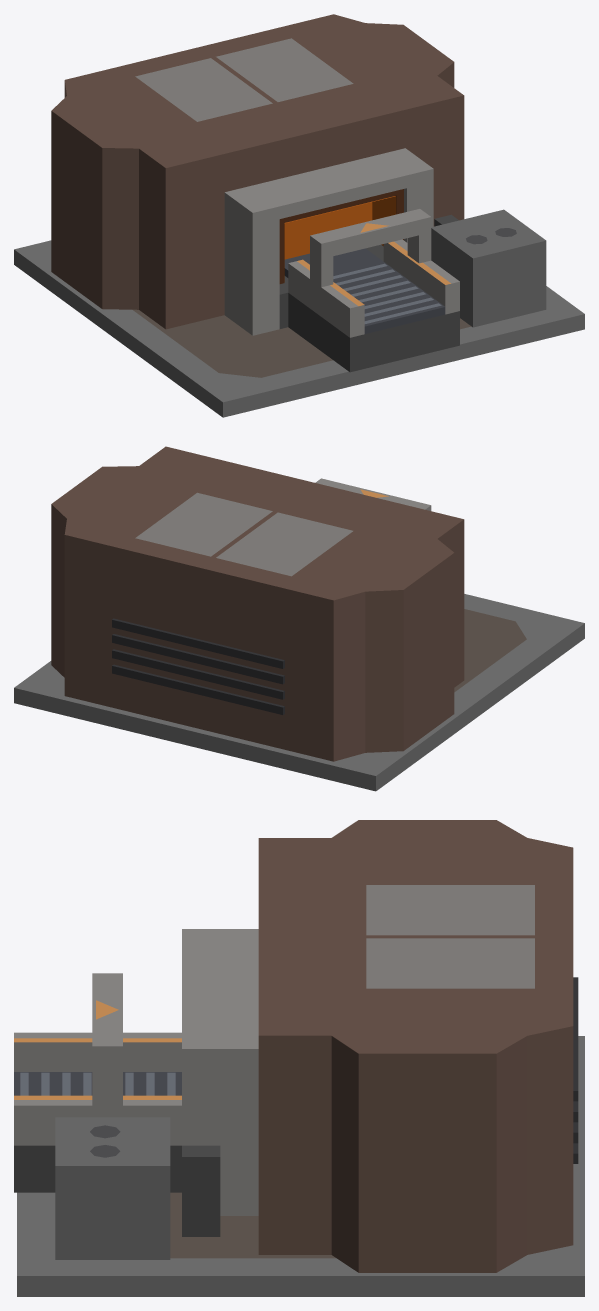
The model's file is vfef_crematorium.obj.
3 views of the same model, one above another, from view 1: azimuth 30°, elevation 25°; view 2: azimuth 150°, elevation 25°; view 3: azimuth 270°, elevation 25° (orthographic). The views are drawn at different scales.
Visible parts, largest first — view 1: vfef_crematorium_2, vfef_crematorium_0, vfef_crematorium_32, vfef_crematorium_3, vfef_crematorium_8, vfef_crematorium_1, vfef_crematorium_21, vfef_crematorium_10, vfef_crematorium_22, vfef_crematorium_30, vfef_crematorium_26, vfef_crematorium_24 (+8 smaller); view 2: vfef_crematorium_2, vfef_crematorium_0, vfef_crematorium_3, vfef_crematorium_1, vfef_crematorium_4, vfef_crematorium_5, vfef_crematorium_6, vfef_crematorium_7, vfef_crematorium_30; view 3: vfef_crematorium_2, vfef_crematorium_0, vfef_crematorium_3, vfef_crematorium_32, vfef_crematorium_9, vfef_crematorium_10, vfef_crematorium_26, vfef_crematorium_24, vfef_crematorium_1, vfef_crematorium_34, vfef_crematorium_30, vfef_crematorium_21 (+8 smaller).
Boxes of the visible parts, left/top/right/bottom form: vfef_crematorium_2: left=51, top=14, right=464, bottom=329; vfef_crematorium_0: left=14, top=240, right=584, bottom=417; vfef_crematorium_32: left=431, top=209, right=546, bottom=327; vfef_crematorium_3: left=135, top=38, right=353, bottom=121; vfef_crematorium_8: left=224, top=185, right=279, bottom=335; vfef_crematorium_1: left=132, top=309, right=471, bottom=377; vfef_crematorium_21: left=288, top=293, right=459, bottom=372; vfef_crematorium_10: left=252, top=154, right=406, bottom=218; vfef_crematorium_22: left=333, top=261, right=445, bottom=333; vfef_crematorium_30: left=310, top=209, right=431, bottom=258; vfef_crematorium_26: left=288, top=261, right=364, bottom=337; vfef_crematorium_24: left=383, top=239, right=459, bottom=314; vfef_crematorium_2: left=51, top=446, right=464, bottom=761; vfef_crematorium_0: left=14, top=594, right=584, bottom=791; vfef_crematorium_3: left=135, top=492, right=352, bottom=576; vfef_crematorium_1: left=454, top=609, right=526, bottom=692; vfef_crematorium_4: left=112, top=664, right=284, bottom=714; vfef_crematorium_5: left=112, top=649, right=284, bottom=699; vfef_crematorium_6: left=112, top=634, right=284, bottom=684; vfef_crematorium_7: left=112, top=618, right=284, bottom=668; vfef_crematorium_30: left=315, top=478, right=431, bottom=510; vfef_crematorium_2: left=258, top=820, right=573, bottom=1272; vfef_crematorium_0: left=17, top=1036, right=584, bottom=1296; vfef_crematorium_3: left=366, top=885, right=534, bottom=988; vfef_crematorium_32: left=55, top=1117, right=170, bottom=1259; vfef_crematorium_9: left=182, top=1031, right=258, bottom=1215; vfef_crematorium_10: left=182, top=947, right=258, bottom=1031; vfef_crematorium_26: left=14, top=1032, right=181, bottom=1071; vfef_crematorium_24: left=14, top=1100, right=181, bottom=1145; vfef_crematorium_1: left=170, top=1192, right=335, bottom=1258; vfef_crematorium_34: left=182, top=1145, right=220, bottom=1236; vfef_crematorium_30: left=92, top=973, right=122, bottom=1067; vfef_crematorium_21: left=14, top=1145, right=181, bottom=1192.
Bounding box in the file's own units: 2.96 × 1.38 × 2.98.
